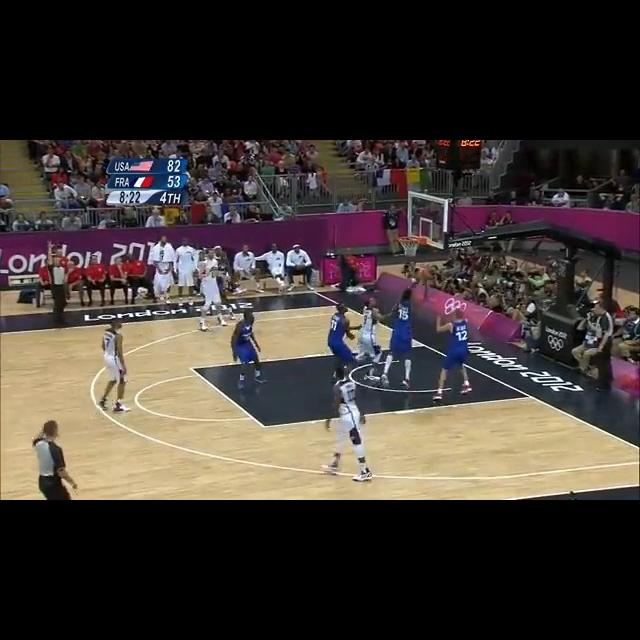basketball: (418, 268, 430, 283)
hoop: (396, 236, 424, 257)
